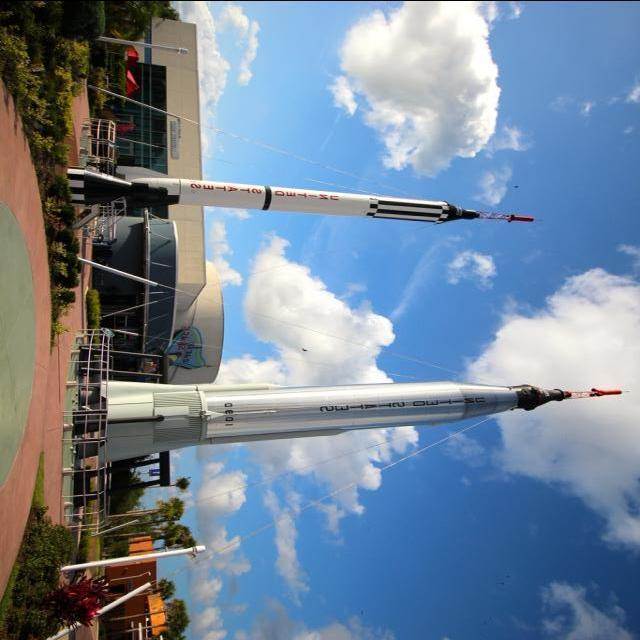missile: (90, 378, 628, 474), (68, 166, 538, 230)
